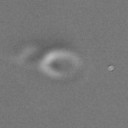normal: (1, 34, 42, 77)
